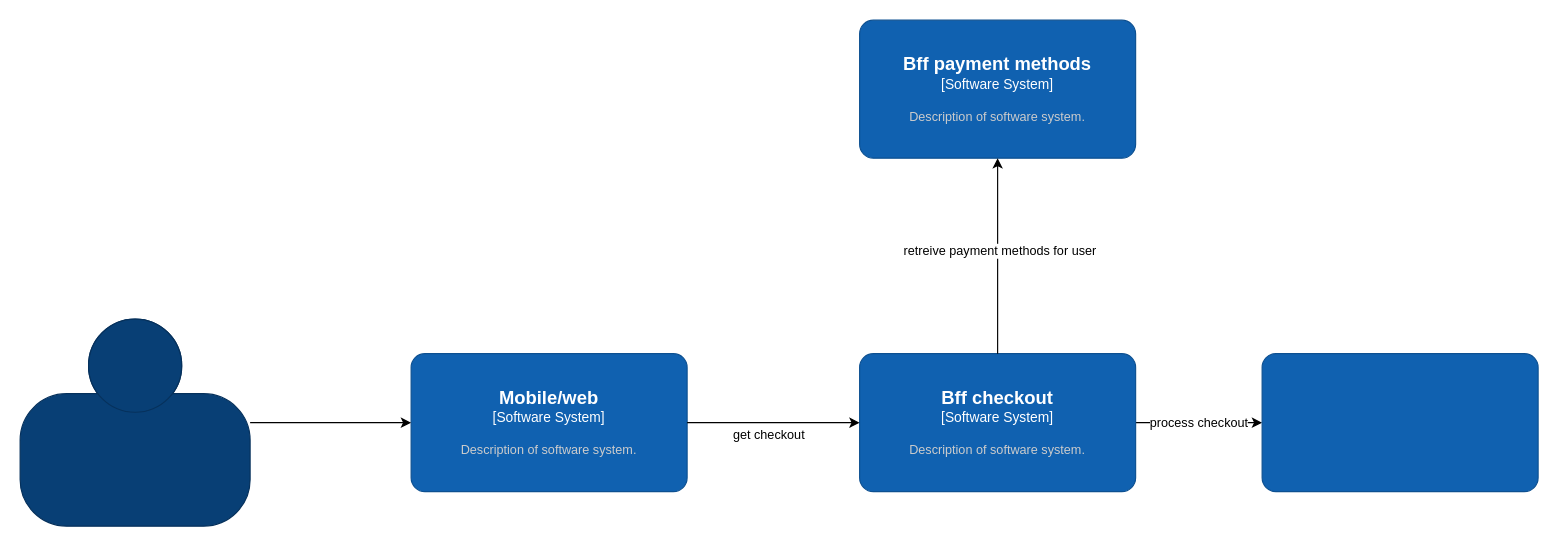
The diagram is 1558 pixels wide and 546 high, and some of its shapes have lost their labels. Here are the shapes that lost their labels. From the top down, the box of each, then its label:
(19, 318, 250, 526): Person name [Person] Description of person.
(1261, 352, 1538, 492): checkout api [Software System] Description of software system.
